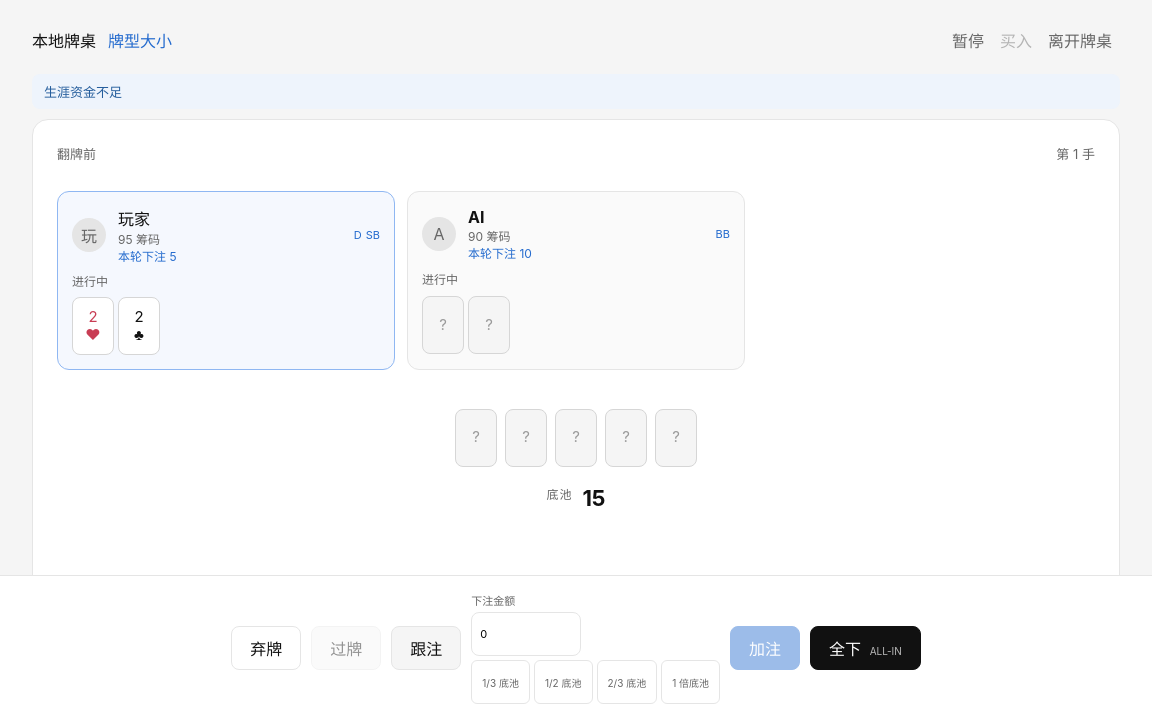
Test: 牌型大小提示 › shows standard ranking in descending order and keeps game controls
This screenshot has width=1152, height=720.
Click the button "牌型大小" at coordinates (140, 40), box [100,20,180,60]
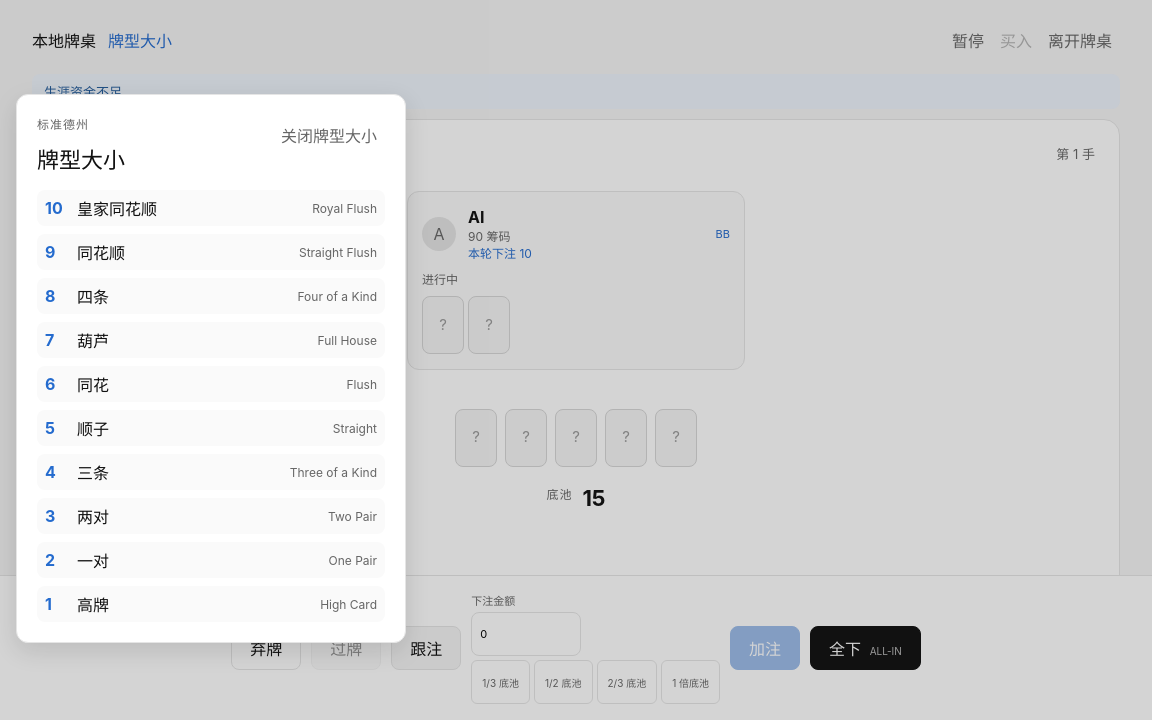
Check: the button "离开牌桌" is shown, box [1040,20,1120,60]
Check: the dialog shows "皇家同花顺", box [77,199,157,219]
Check: the button "关闭牌型大小" is shown
Click the button "关闭牌型大小" at coordinates (329, 135), box [273,115,385,155]
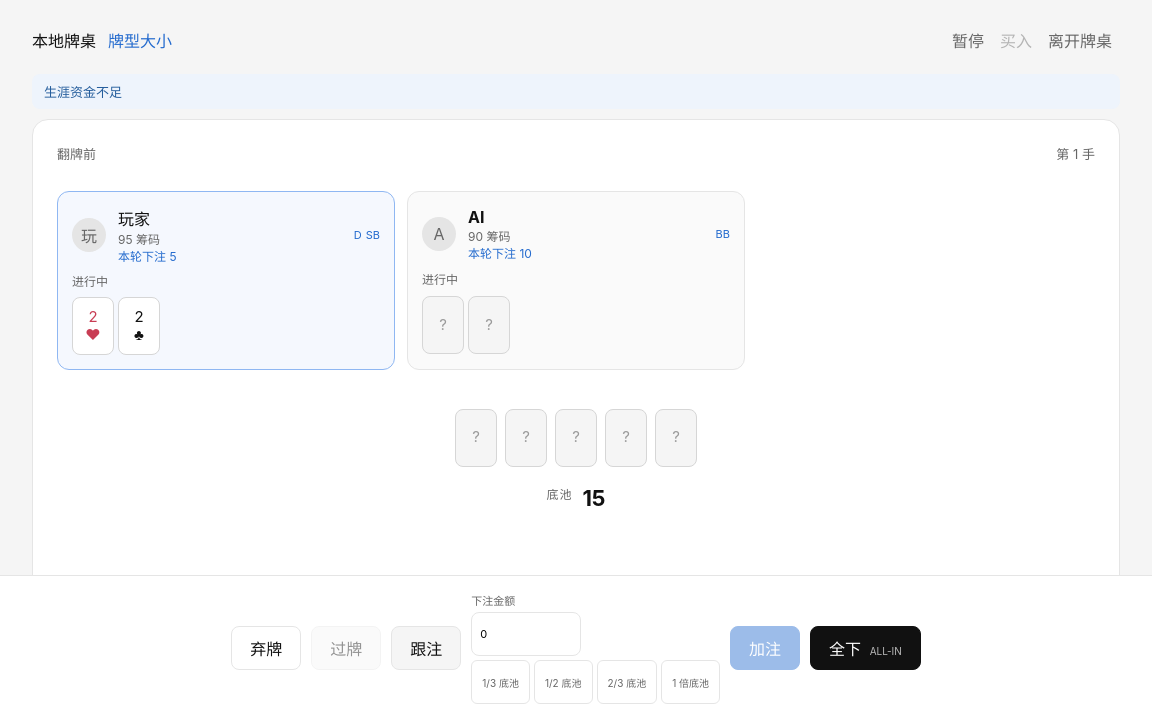
Check: the dialog is gone
